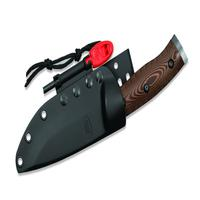knife: (9, 31, 185, 176)
